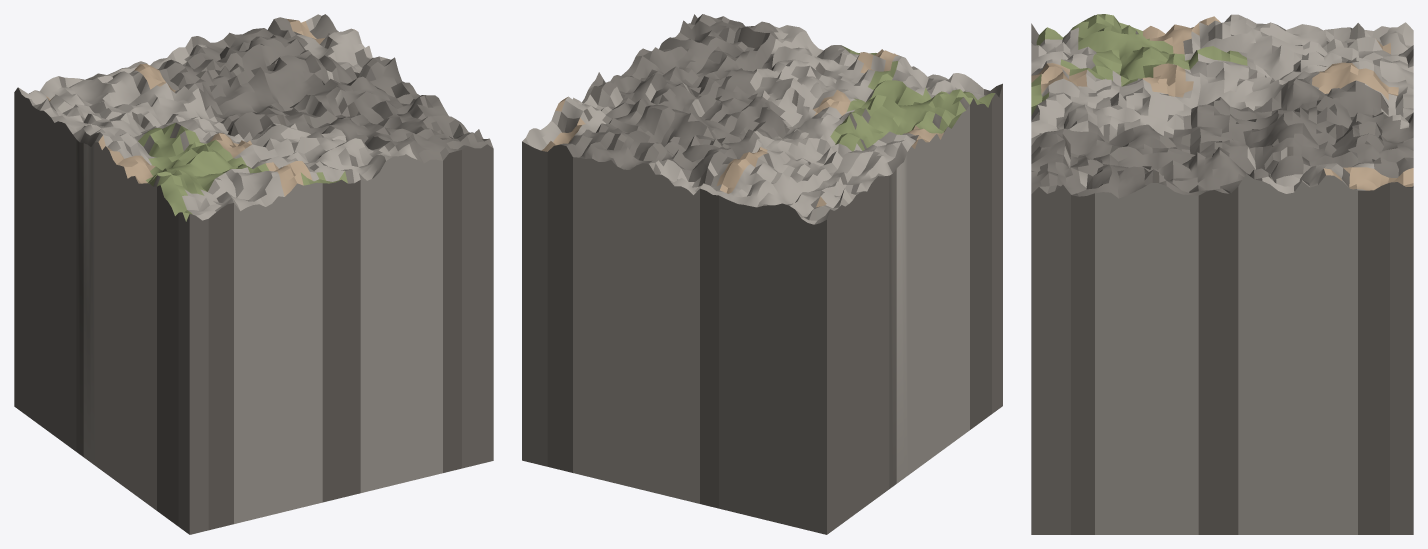
Rendered from kit-rock-mid.glb.
3 views of the same model, side by side, from view 1: azimuth 30°, elevation 25°; view 2: azimuth 150°, elevation 25°; view 3: azimuth 270°, elevation 25° (orthographic). The views are drawn at different scales.
Parts seen in each view (by area): view 1: rock.001; view 2: rock.001; view 3: rock.001.
Boxes of the visible parts, box(x1,y1,x2,y2) form: rock.001: box(14, 14, 493, 534); rock.001: box(522, 14, 1002, 534); rock.001: box(1031, 14, 1413, 534).
Size of the model in its own units: 1 by 1.05 by 1.
